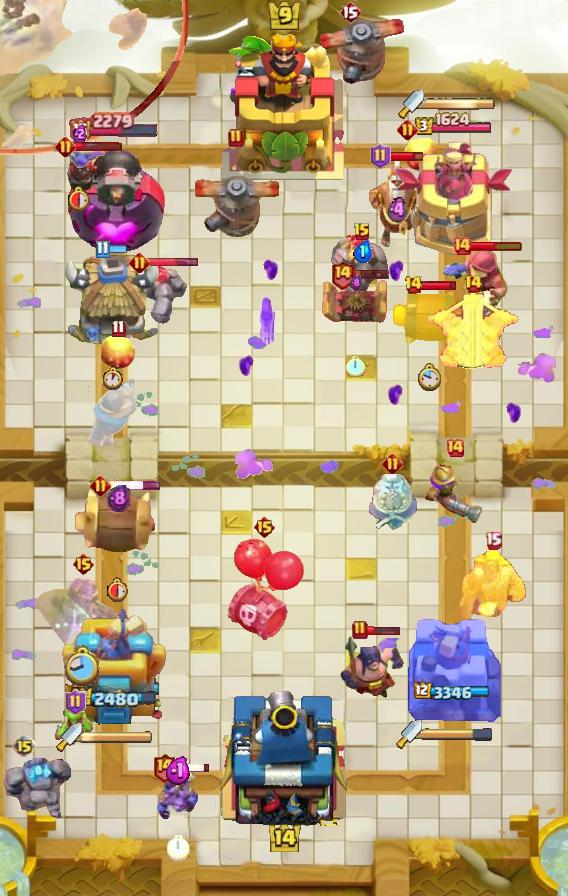bar: (395, 142, 514, 256), (62, 601, 166, 731), (405, 611, 501, 731)
barbarian: (51, 146, 109, 172)
barbarian-hut: (31, 572, 135, 650)
bomb-tower: (423, 461, 487, 527)
dark-prince: (191, 151, 281, 237), (319, 0, 407, 84)
electro-spirit: (164, 756, 191, 786), (106, 484, 129, 513), (388, 196, 407, 224), (352, 240, 372, 264), (73, 124, 87, 145), (350, 275, 362, 291)
elixir: (65, 645, 101, 688), (417, 364, 441, 392), (68, 184, 92, 211), (166, 835, 189, 861), (106, 577, 129, 602), (102, 366, 124, 390), (346, 355, 366, 377)
elixir-collector: (369, 157, 425, 253), (364, 472, 420, 532)
emote: (469, 240, 522, 252), (110, 481, 163, 492), (147, 257, 199, 268), (73, 140, 123, 151), (389, 149, 424, 162), (354, 268, 391, 280), (366, 624, 401, 636), (422, 280, 459, 291), (173, 763, 210, 774), (108, 245, 127, 256)
fireball: (441, 246, 509, 330)
firecracker: (85, 380, 138, 449)
goblin: (258, 297, 278, 347)
goblin-brawler: (321, 277, 391, 327)
goblin-hut: (460, 548, 526, 621)
hog: (404, 134, 438, 172), (101, 332, 135, 370)
king-tower: (214, 684, 354, 826), (222, 31, 346, 181)
king-tower-bar: (424, 97, 496, 111), (422, 727, 494, 741), (82, 730, 154, 744)
lava-pup: (424, 290, 522, 372)
monk: (338, 631, 406, 701)
prince: (62, 255, 164, 351)
royal-delivery: (156, 766, 200, 822)
royal-ghost: (0, 1, 188, 156)
royal-recruit-evolution: (223, 538, 305, 644)
selected: (68, 111, 159, 139), (70, 686, 157, 710), (414, 112, 494, 137), (414, 682, 492, 702)
text: (330, 259, 355, 290), (151, 753, 176, 784), (12, 734, 36, 758), (253, 515, 276, 539), (72, 552, 95, 576), (369, 143, 390, 169), (66, 689, 87, 715), (339, 0, 361, 24), (382, 453, 403, 475), (398, 119, 419, 140), (55, 135, 76, 156), (130, 252, 151, 273), (89, 476, 110, 497), (452, 236, 472, 256), (464, 274, 484, 294), (445, 438, 465, 458), (404, 275, 423, 295), (353, 222, 371, 242), (485, 531, 502, 550), (228, 128, 244, 148), (352, 620, 368, 640), (110, 318, 125, 337), (94, 241, 109, 259)
the-log: (73, 488, 163, 556), (389, 287, 469, 347)
tower-bar: (62, 138, 166, 256)
valkyrie-evolution: (0, 753, 72, 821), (330, 235, 394, 303), (123, 265, 187, 325)
zap: (54, 707, 96, 745)
